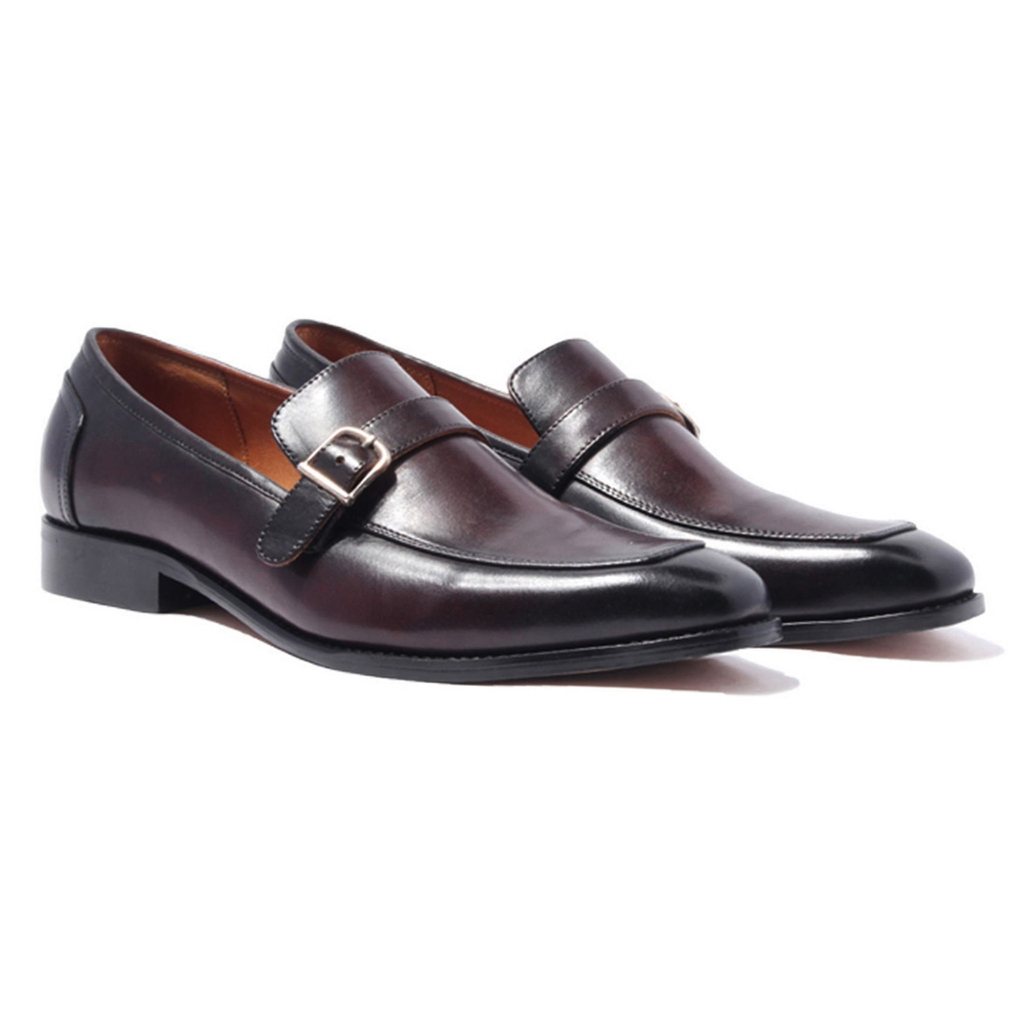loafers: (37, 323, 784, 685), (268, 320, 987, 656)
